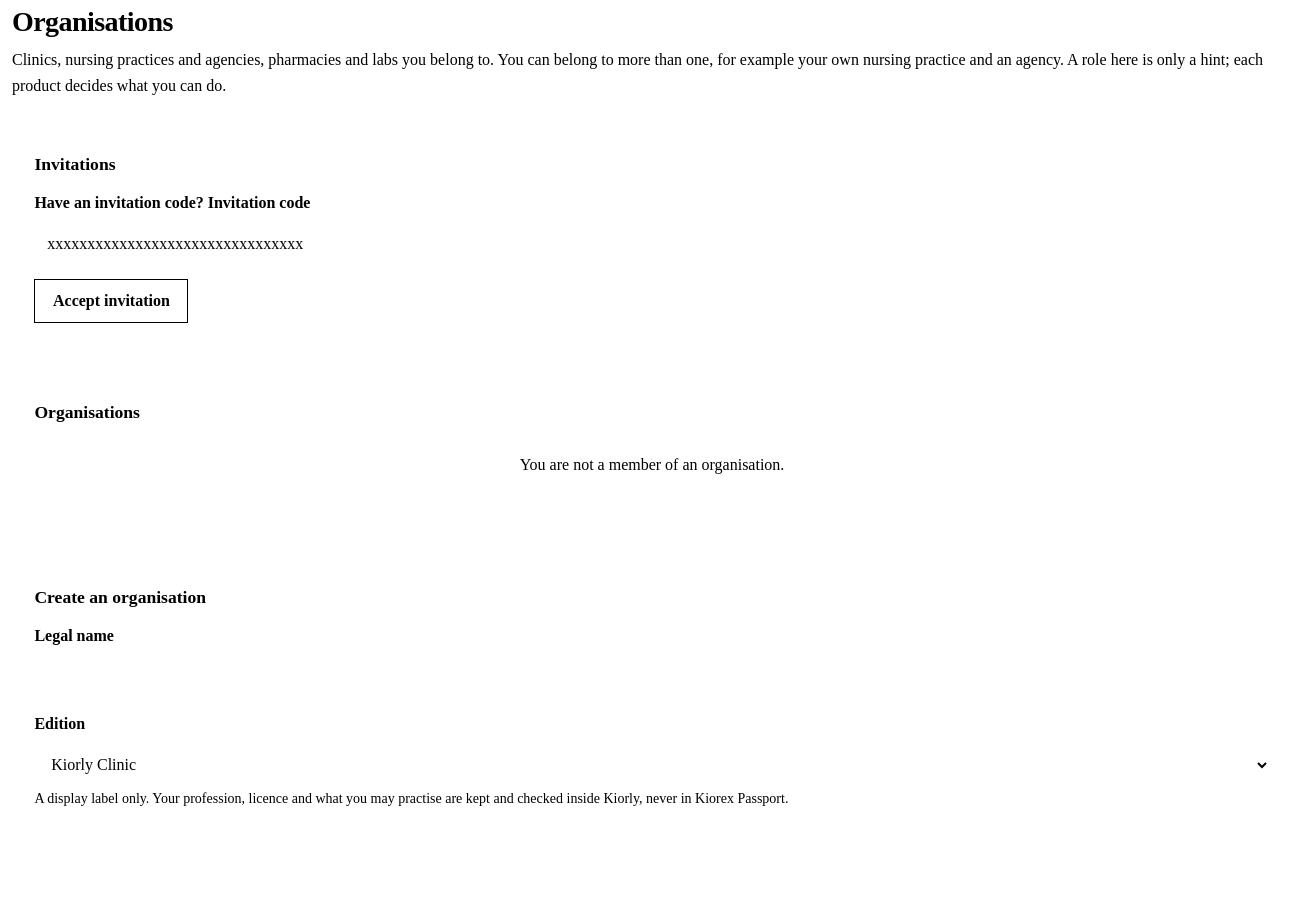
Test case: Organisations page › accepts an invitation code from the link (?invite=) and shows API errors in words
Click the button "Accept invitation".
click(111, 301)  # box x1=34 y1=279 x2=188 y2=323
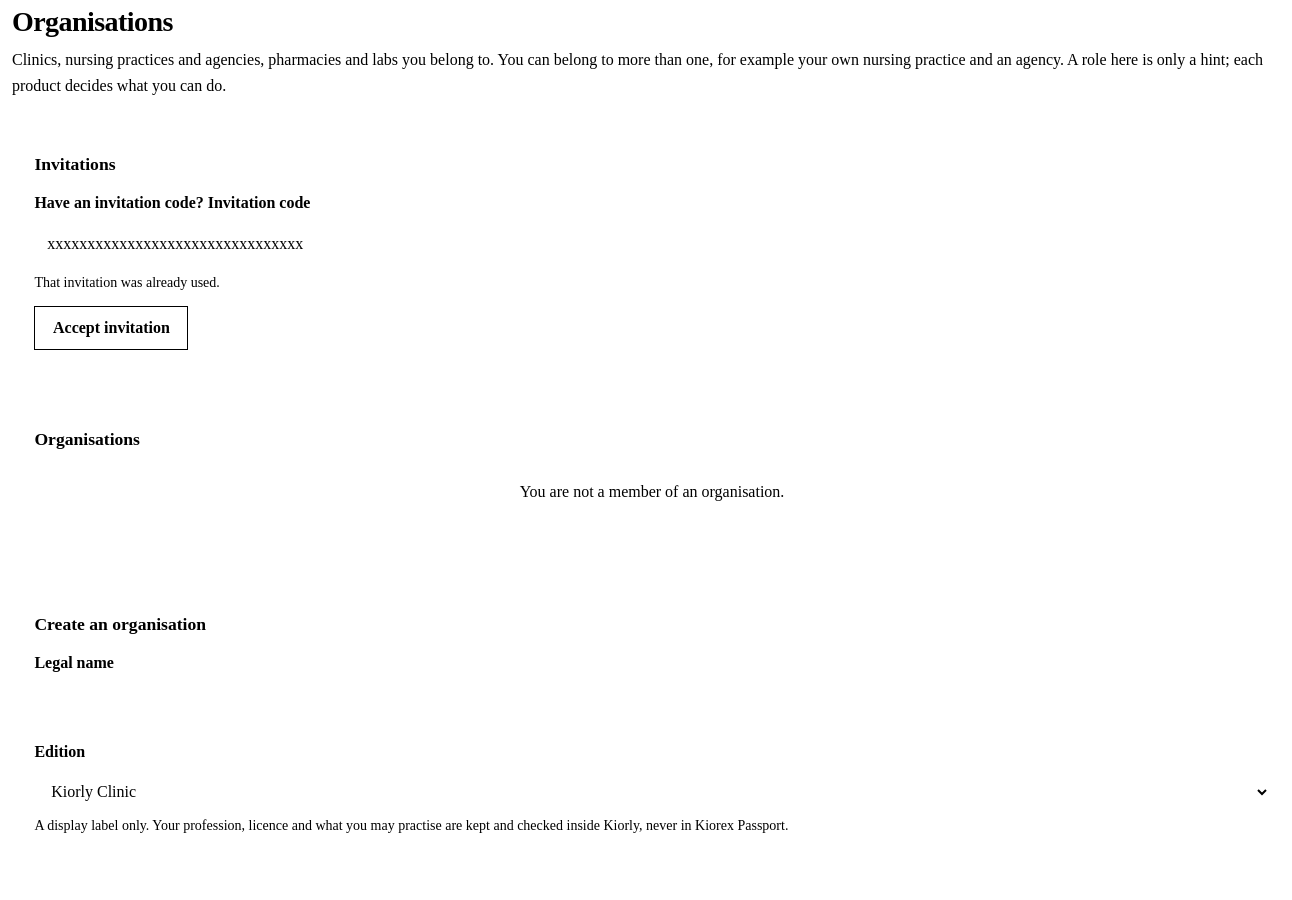
Expected: the text "That invitation was already used." is shown, x1=34 y1=274 x2=220 y2=290
